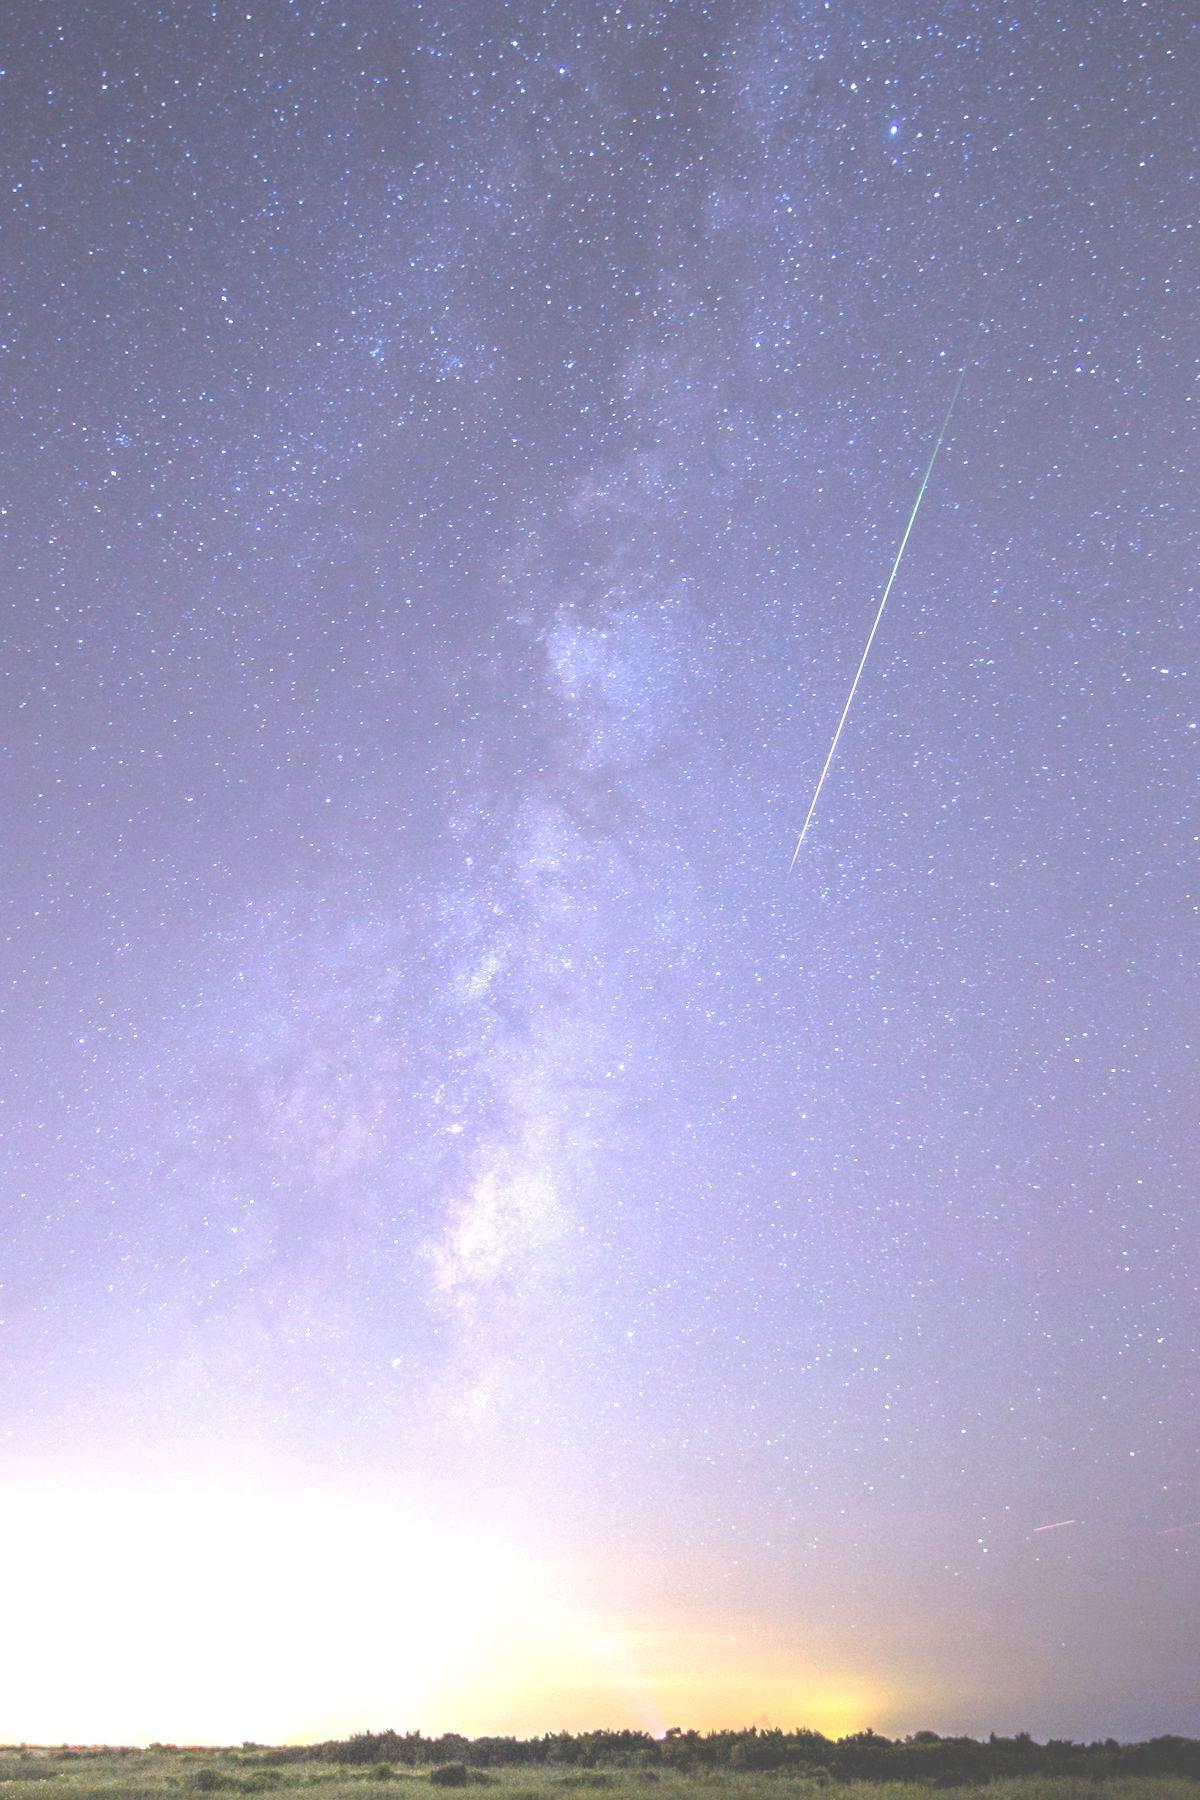meteorite: (755, 430, 964, 871)
